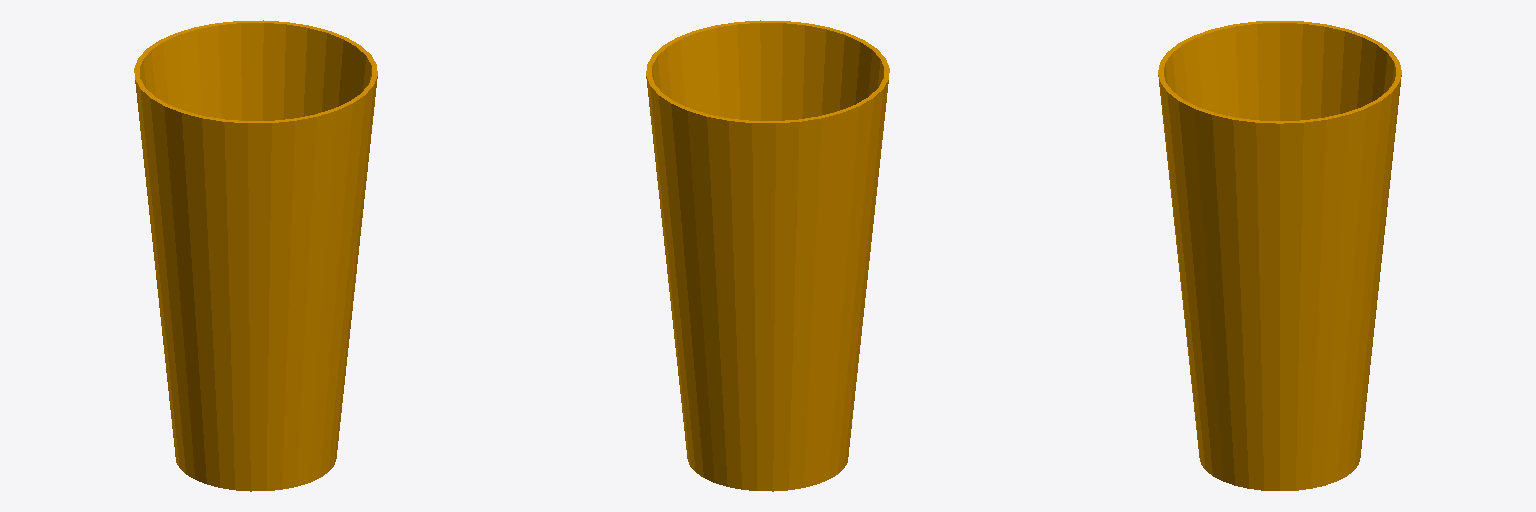
robot.urdf — cup_model:
<robot name="cup_model">
  <link name="cup">
    <inertial>
      <mass value="0.100000" />
      <origin xyz="0.000000 0.000000 0.076937"/>
      <inertia ixx="0.000288" ixy="0.000000" ixz="0.000000" iyy="0.000288" iyz="0.000000" izz="0.000128" />
    </inertial>
    <visual>
      <geometry>
        <mesh filename="package://manipulation_objects/meshes/cup.stl" />
      </geometry>
    </visual>
    <collision>
      <geometry>
        <mesh filename="package://manipulation_objects/meshes/cup.stl" />
      </geometry>
    </collision>
  </link>
  <gazebo reference="cup">
    <material>Gazebo/Grey</material>
  </gazebo>
</robot>

--- Facts derived from the render (not from the file) ---
The picture shows the robot from 3 angles, left to right: view 1: azimuth 30°, elevation 25°; view 2: azimuth 150°, elevation 25°; view 3: azimuth 270°, elevation 25°; orthographic projection.
Model cup_model with 1 links and 0 joints (none), rooted at cup, posed all joints at 0.
Links seen in each view (by area): view 1: cup; view 2: cup; view 3: cup.
Boxes of the visible links, x1=… form: cup: x1=134, y1=20, x2=377, y2=491; cup: x1=646, y1=20, x2=889, y2=491; cup: x1=1158, y1=21, x2=1401, y2=490.
Size in the robot's own frame: 0.089 by 0.089 by 0.155 metres.
1 mesh visuals loaded from 1 distinct referenced files (1 binary STL).
